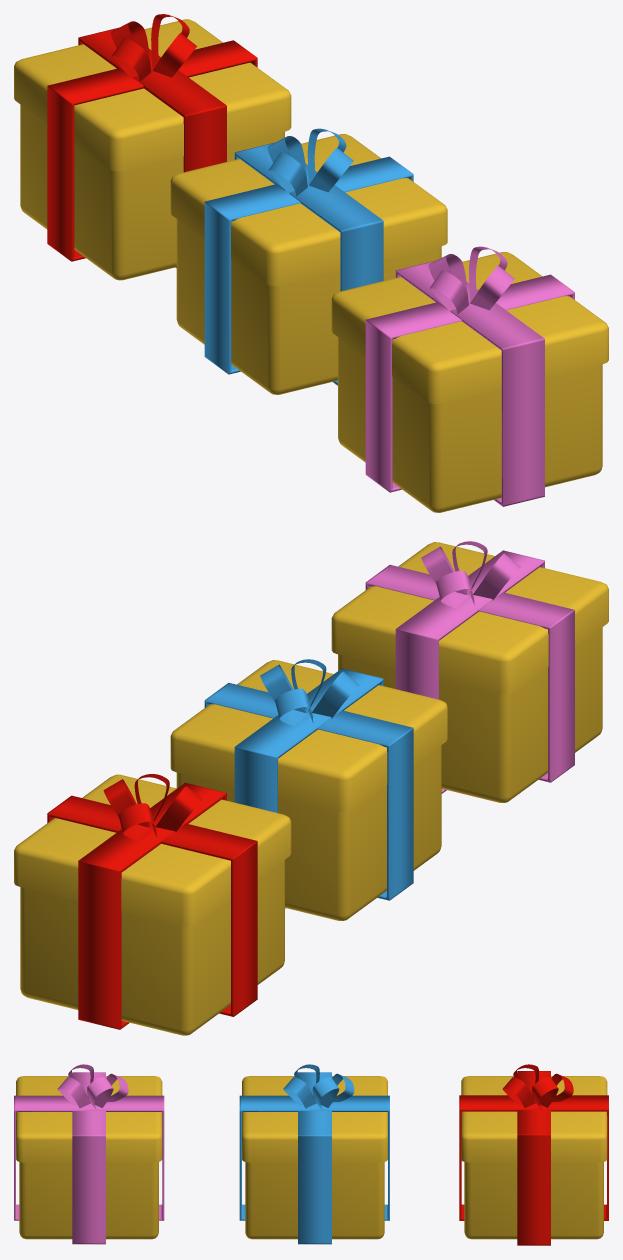
File: GiftBoxAll.fbx
3 views of the same model, one above another, from view 1: azimuth 30°, elevation 25°; view 2: azimuth 150°, elevation 25°; view 3: azimuth 270°, elevation 25° (orthographic). The views are drawn at different scales.
Visible parts, largest first — view 1: Cube.004, Cube.003, Cube.005, Cube.001, Cube.002, Cube, Plane.006, Plane.000, Plane.008, Plane.005, Plane.003, Plane.001 (+3 smaller); view 2: Cube, Cube.003, Cube.005, Cube.001, Cube.004, Cube.002, Plane.001, Plane.000, Plane.005, Plane.008, Plane.006, Plane.003 (+3 smaller); view 3: Cube, Cube.004, Cube.002, Cube.001, Cube.005, Cube.003, Plane.000, Plane.005, Plane.008, Plane.003, Plane.006, Plane.001 (+3 smaller).
Part boxes in pixels (x1,y1,x2,y2): Cube.004: (338, 337, 602, 512); Cube.003: (170, 134, 447, 286); Cube.005: (331, 252, 608, 404); Cube.001: (14, 19, 291, 171); Cube.002: (176, 219, 441, 394); Cube: (20, 104, 284, 280); Plane.006: (395, 260, 544, 506); Plane.000: (47, 40, 257, 261); Plane.008: (365, 274, 574, 492); Plane.005: (204, 156, 413, 374); Plane.003: (234, 142, 383, 385); Plane.001: (78, 27, 226, 267); Cube: (20, 860, 284, 1035); Cube.003: (170, 660, 447, 812); Cube.005: (331, 542, 608, 694); Cube.001: (14, 774, 291, 926); Cube.004: (338, 627, 602, 802); Cube.002: (176, 745, 441, 920); Plane.001: (78, 782, 226, 1029); Plane.000: (47, 795, 257, 1016); Plane.005: (204, 683, 413, 900); Plane.008: (365, 564, 574, 782); Plane.006: (395, 550, 544, 793); Plane.003: (234, 668, 383, 908); Cube: (464, 1162, 603, 1239); Cube.004: (19, 1162, 158, 1239); Cube.002: (245, 1162, 384, 1239); Cube.001: (461, 1076, 607, 1162); Cube.005: (16, 1076, 162, 1162); Cube.003: (242, 1076, 387, 1162); Plane.000: (517, 1071, 550, 1245); Plane.005: (298, 1072, 331, 1244); Plane.008: (72, 1072, 105, 1244); Plane.003: (239, 1095, 389, 1220); Plane.006: (14, 1095, 164, 1220); Plane.001: (459, 1095, 608, 1220).
Size of the model in its own units: 216 by 227 by 853.
